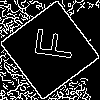F: (25, 25, 75, 62)
